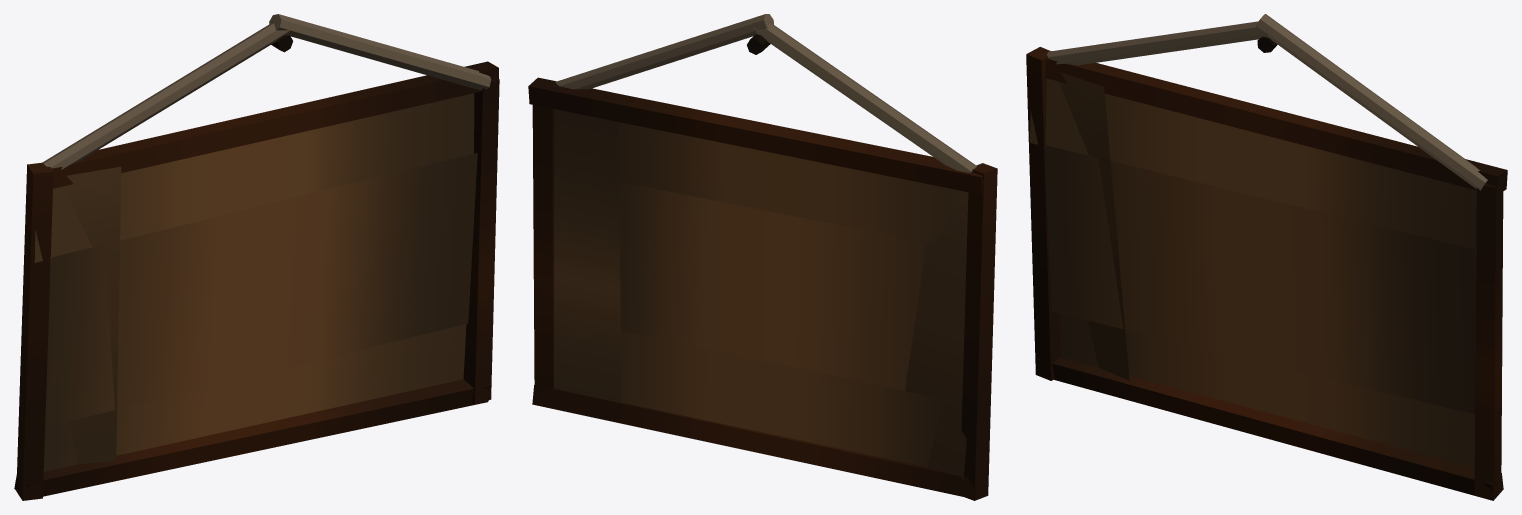
The model's file is painting_01_quill.fbx.
3 views of the same model, side by side, from view 1: azimuth 30°, elevation 25°; view 2: azimuth 150°, elevation 25°; view 3: azimuth 330°, elevation 25° (orthographic). The views are drawn at different scales.
Visible parts, largest first — view 1: Painting_01_quill; view 2: Painting_01_quill; view 3: Painting_01_quill.
Part boxes in pixels (bbox=[...]): Painting_01_quill: bbox=[14, 14, 499, 500]; Painting_01_quill: bbox=[528, 14, 997, 500]; Painting_01_quill: bbox=[1026, 14, 1507, 500].
Bounding box in the file's own units: 1.63 × 1.48 × 0.1635.
